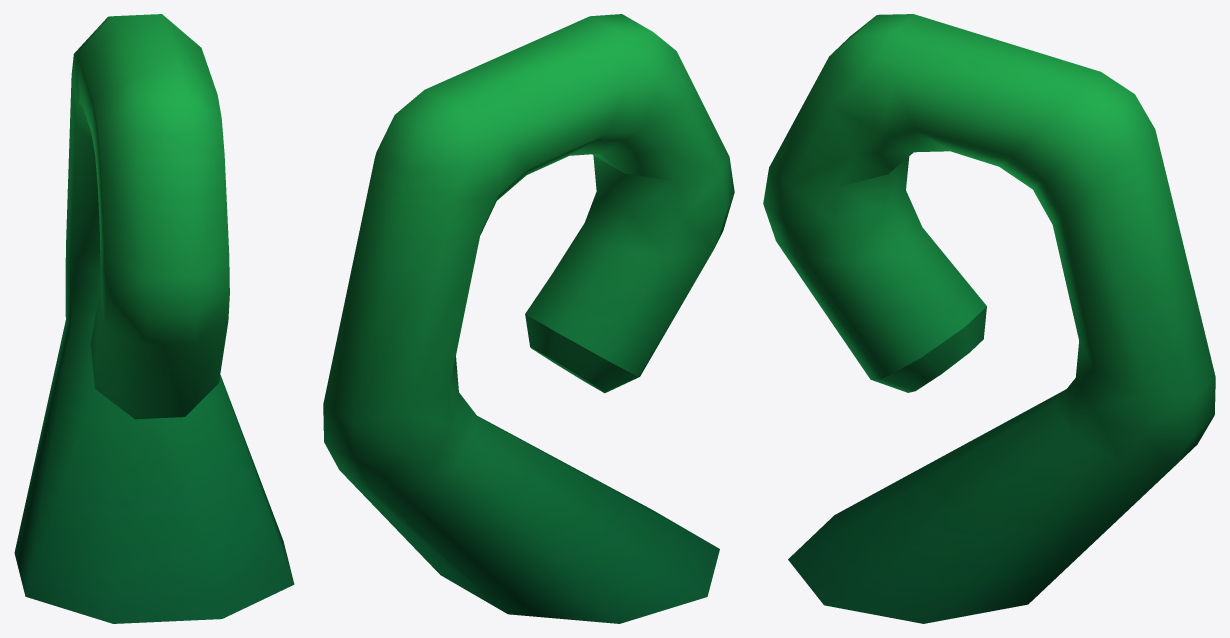
Rendered from Vine_2_2.obj.
3 renders of one model, left to right at view 1: azimuth 30°, elevation 25°; view 2: azimuth 150°, elevation 25°; view 3: azimuth 270°, elevation 25°, orthographic. The views are drawn at different scales.
Parts seen in each view (by area): view 1: Vine_2_2; view 2: Vine_2_2; view 3: Vine_2_2.
Part boxes in pixels (left/top/right/bottom): Vine_2_2: left=14, top=14, right=294, bottom=623; Vine_2_2: left=323, top=14, right=734, bottom=623; Vine_2_2: left=763, top=14, right=1215, bottom=623.
Size of the model in its own units: 0.1503 by 0.2766 by 0.2139.
